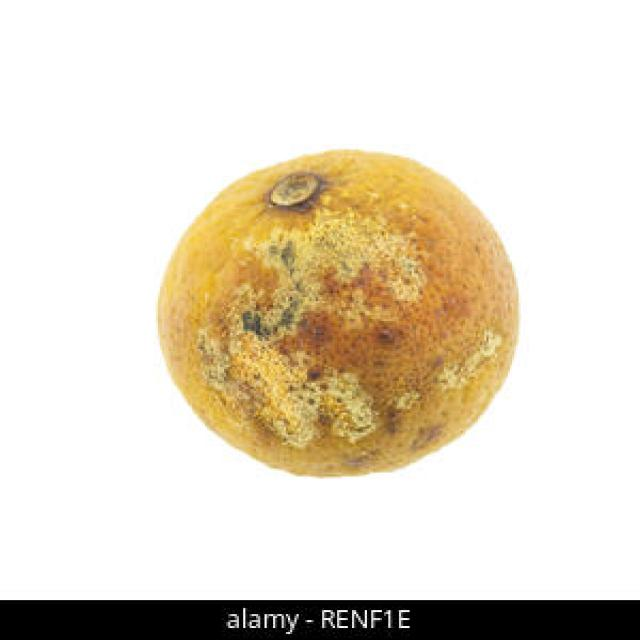overripe: (149, 141, 532, 484)
